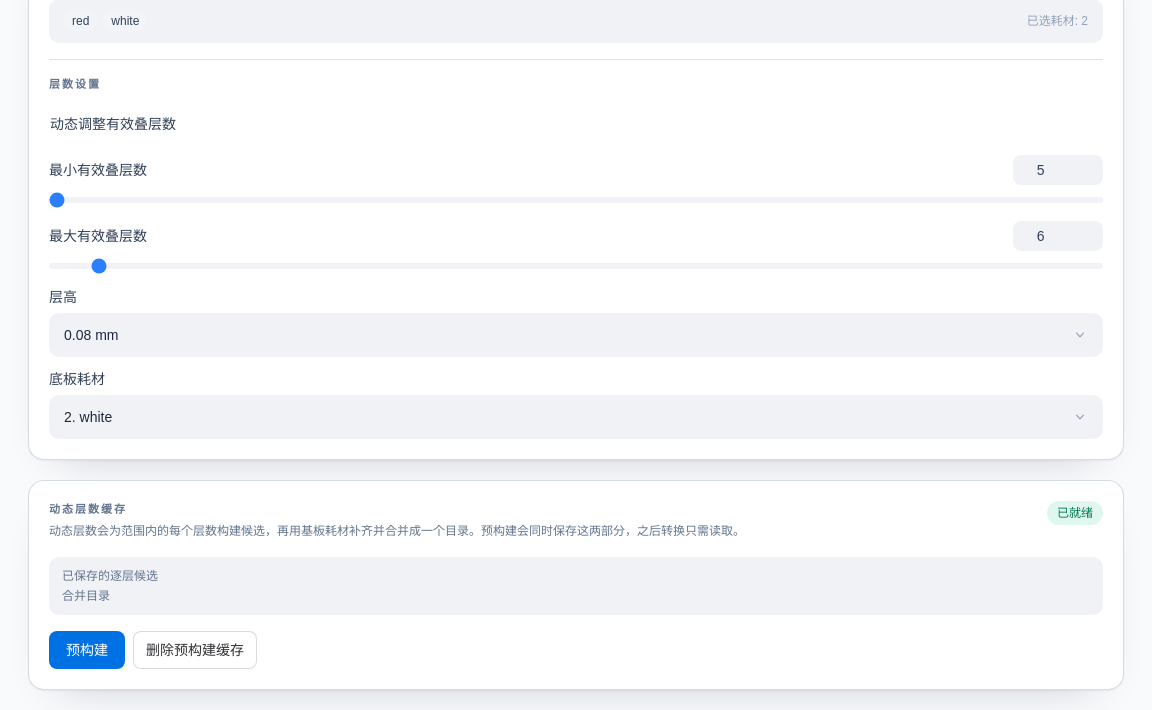
Test case: MaterialCachePanel › keeps a successful delete separate from a failed status refresh
(page scrolled)
Step 1. Click the button "删除预构建缓存" → (195, 650), box [133,631,257,669]
(page scrolled)
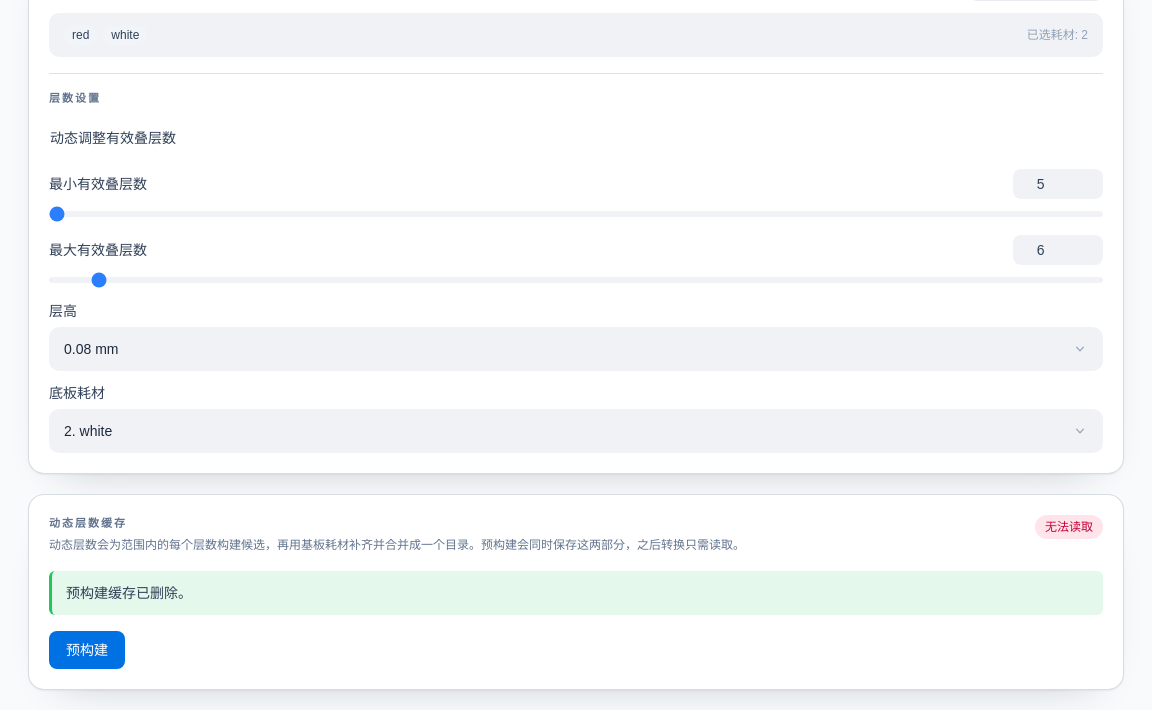
Check: the text "预构建缓存已删除。" is shown, box [66,585,192,601]
Check: the text with test id "dynamic-layer-cache-status" reads "无法读取", box [1045,520,1093,534]
